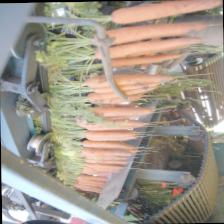carrot: (92, 20, 210, 46), (93, 35, 203, 59), (109, 0, 221, 23), (84, 71, 174, 87), (85, 85, 158, 101), (83, 104, 154, 116)
